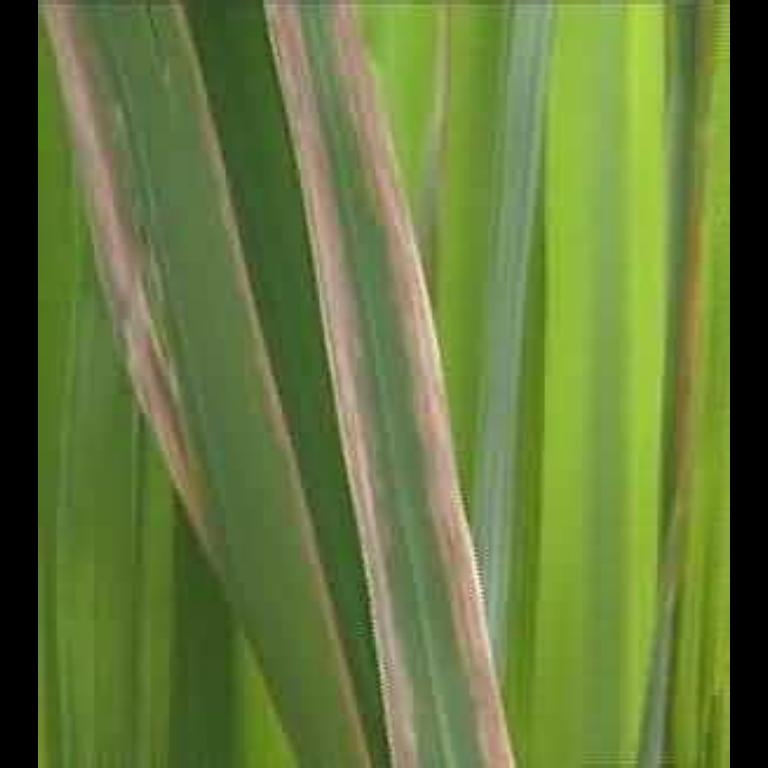blight: (278, 0, 502, 768)
